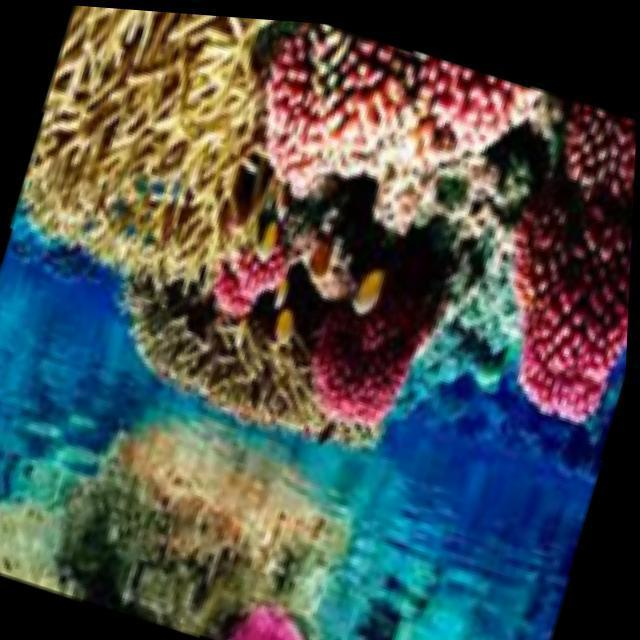Dead Coral: (120, 275, 333, 453)
